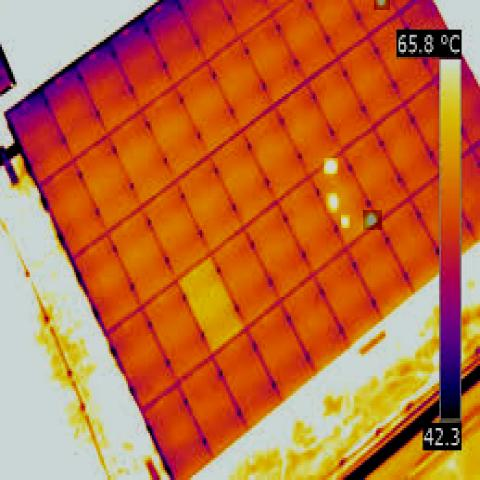fault: (363, 210, 382, 230), (324, 158, 338, 174), (326, 193, 337, 213), (374, 0, 390, 10), (341, 215, 350, 228)
